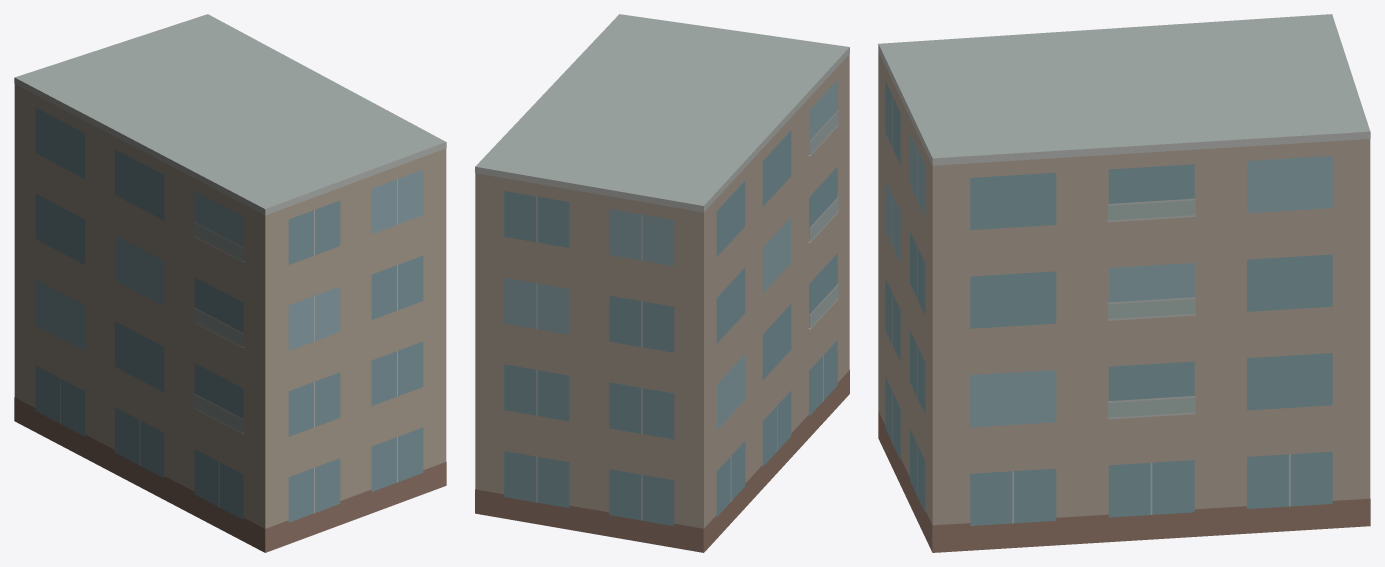
The model's file is survey-upis-32752559.glb.
3 renders of one model, left to right at view 1: azimuth 30°, elevation 25°; view 2: azimuth 150°, elevation 25°; view 3: azimuth 270°, elevation 25°, orthographic. The views are drawn at different scales.
Visible parts, largest first — view 1: survey-upis-32752559.tmp; view 2: survey-upis-32752559.tmp; view 3: survey-upis-32752559.tmp.
Part boxes in pixels (box(x1,y1,x2,y2)): survey-upis-32752559.tmp: box(14, 14, 446, 552); survey-upis-32752559.tmp: box(475, 14, 849, 552); survey-upis-32752559.tmp: box(878, 14, 1370, 552).
Size of the model in its own units: 10.37 by 13.2 by 14.93.
